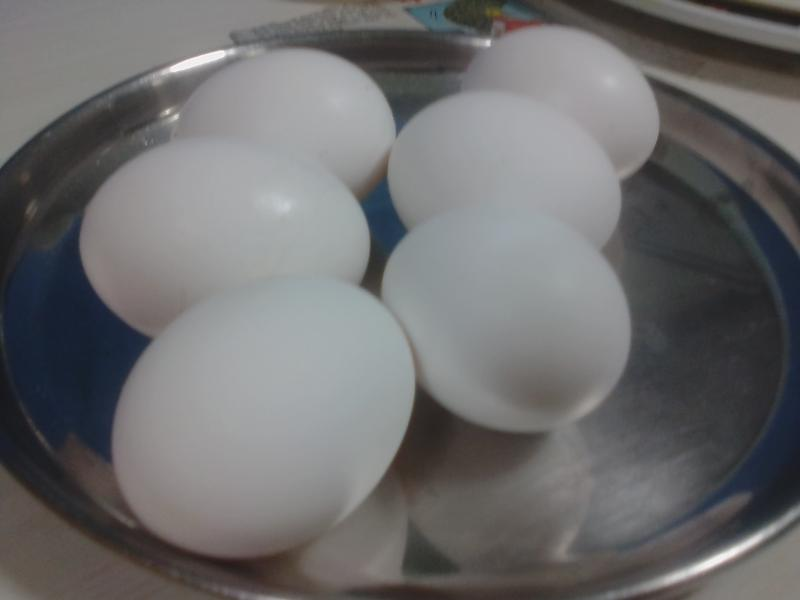egg: (381, 210, 628, 430)
